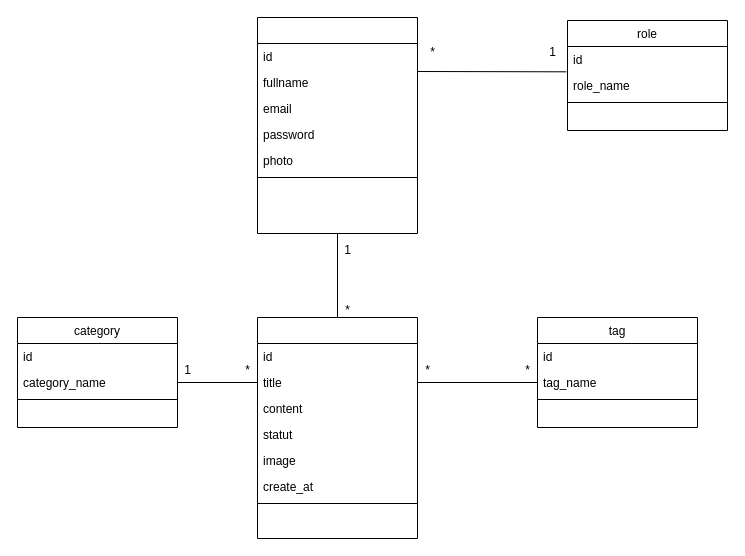
Some shapes in this 745 by 556 pixel diagram are drawn without their labels. Each missing label, with the box of its shape:
user: (256, 16, 418, 234)
wiki: (256, 316, 418, 538)
